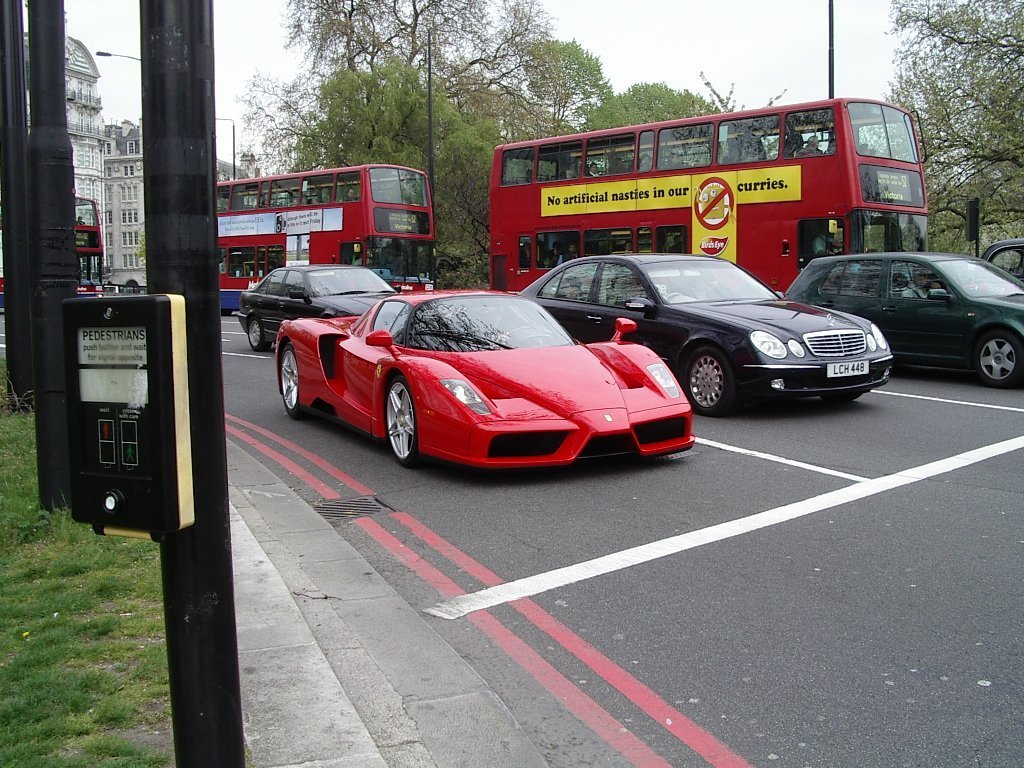Car: (280, 280, 696, 467), (519, 249, 897, 408), (796, 252, 1022, 388), (238, 267, 412, 349), (983, 249, 1022, 280)
